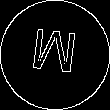M_S: (29, 27, 81, 83)
